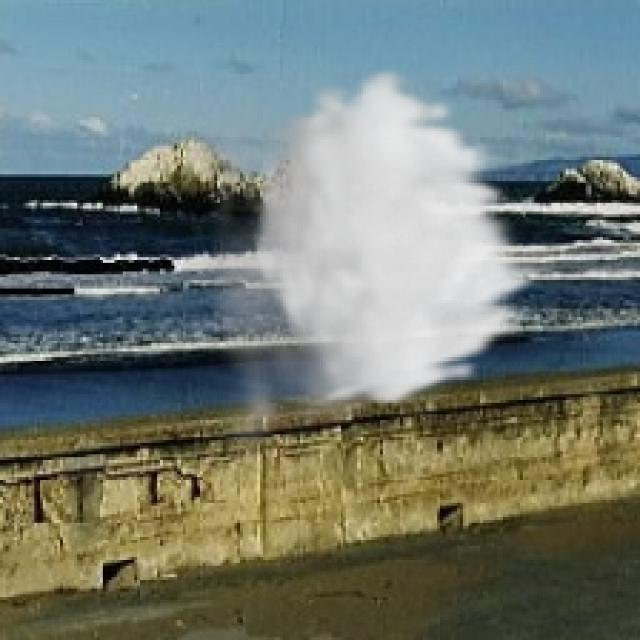Smoke: (183, 66, 546, 480)
